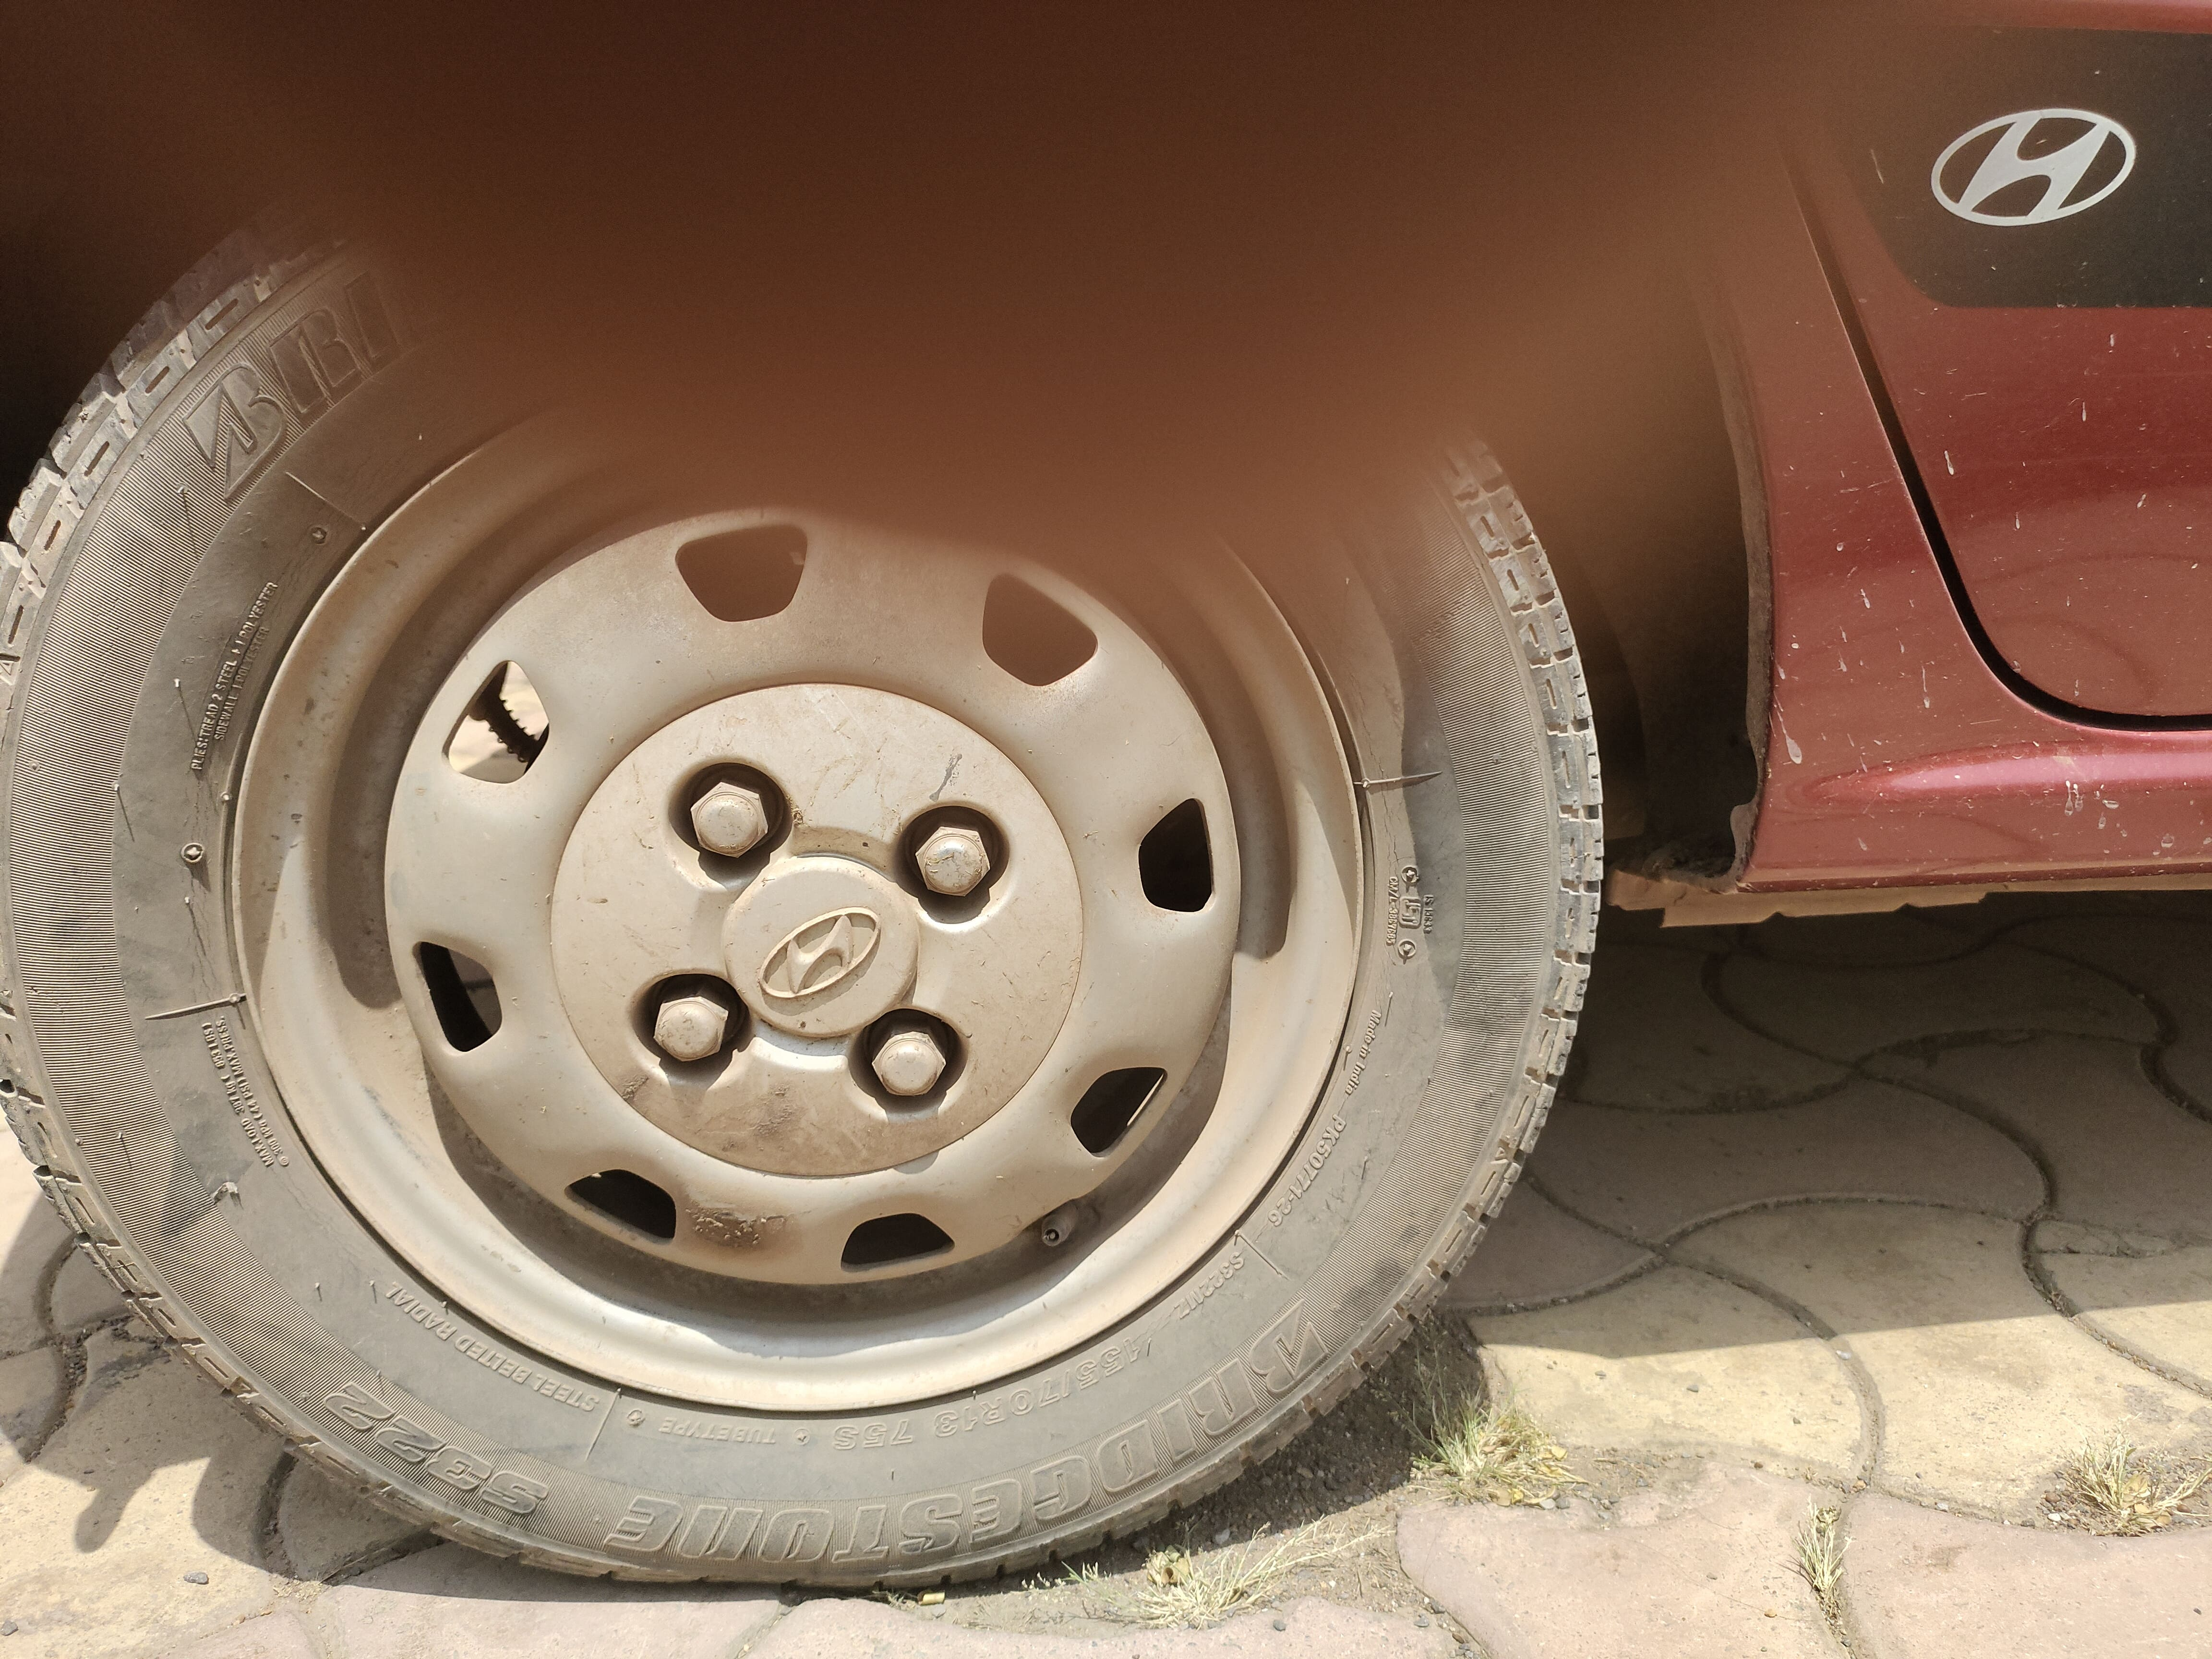l: (653, 762, 792, 878), (904, 789, 1014, 936), (615, 960, 742, 1084), (831, 999, 958, 1117)
